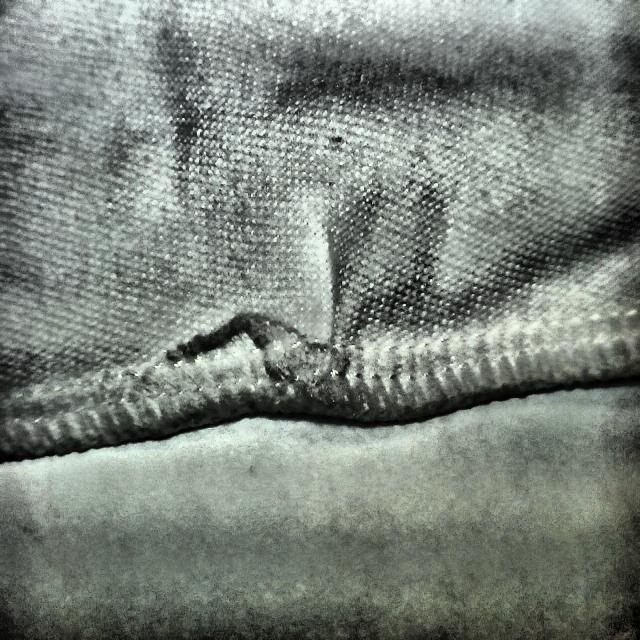seam: (175, 228, 373, 416)
